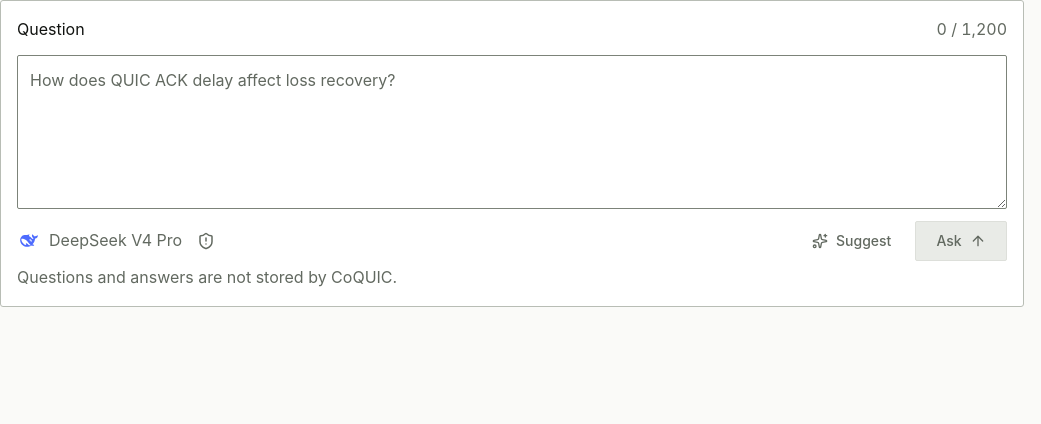
Test case: QA stream and form contract › shows one recovery state for HTTP failure instead of duplicate model answers
This screenshot has width=1041, height=424.
In the text box labelled "Question": (512, 132) [17,55,1007,209], type "How does QUIC recover loss?"
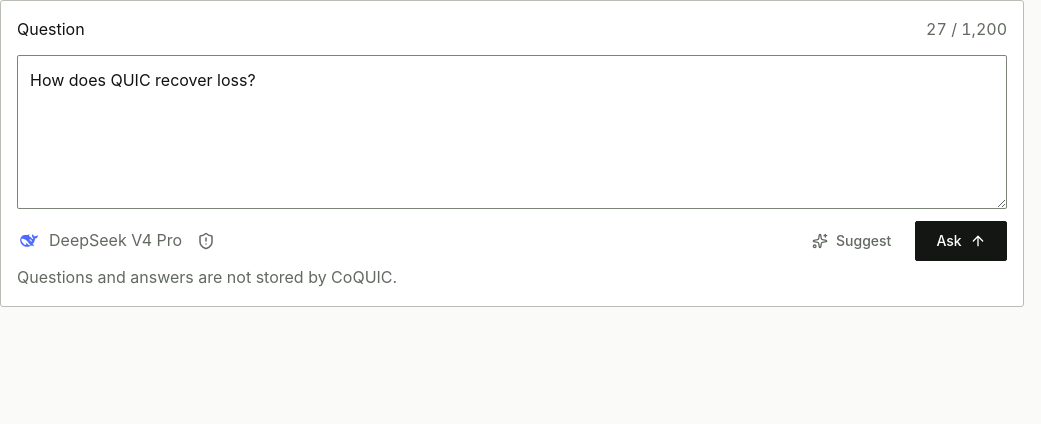
Submit the form "Question"
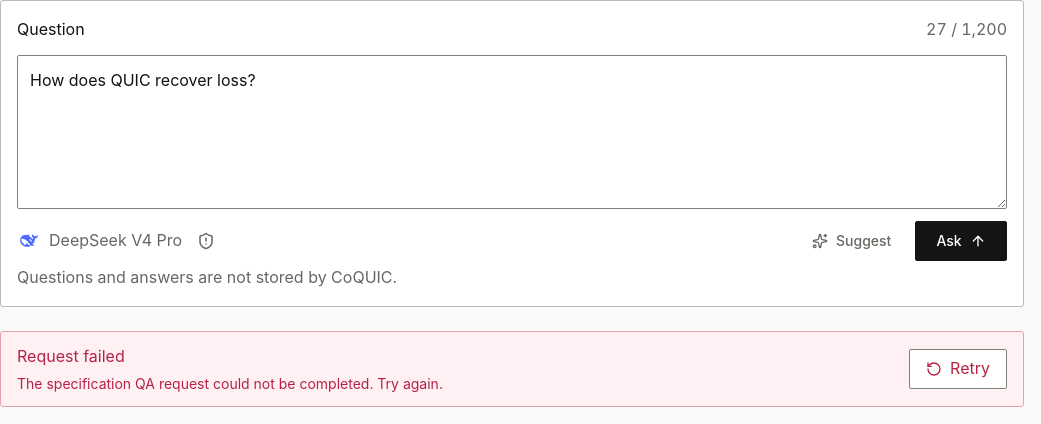
Expected: the message shows "The specification QA request could not be completed.", [17,375,443,392]
Expected: the button "Retry" is shown, [909,349,1007,389]
